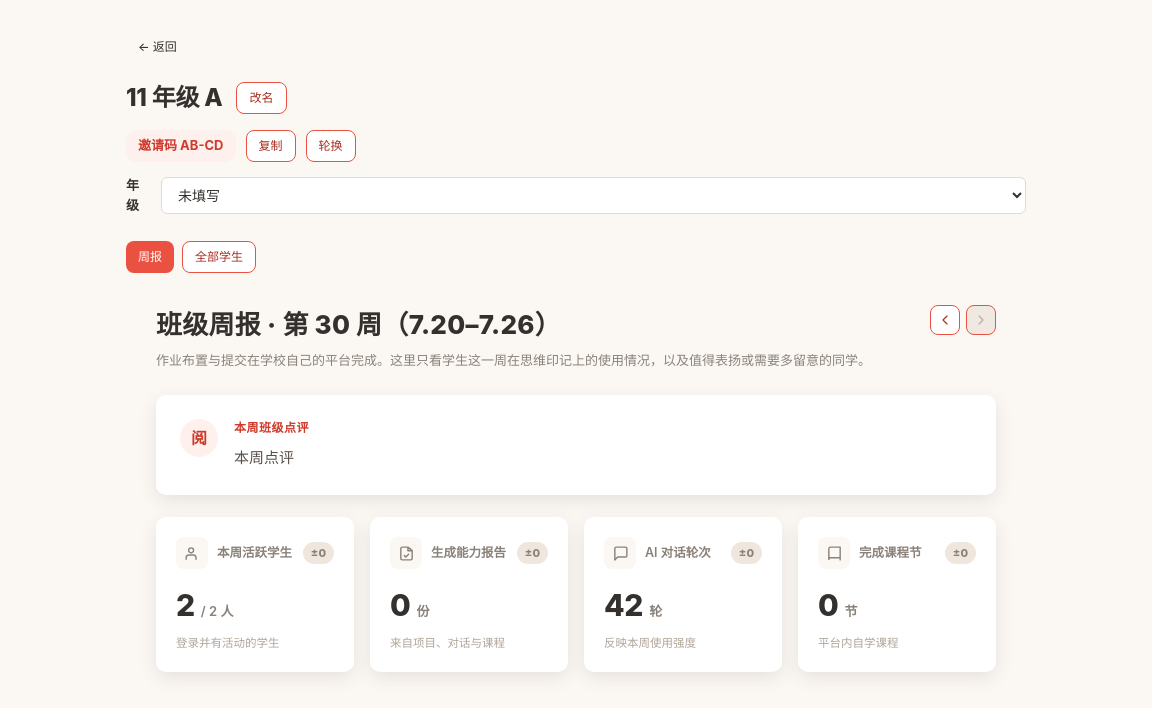
Test: ClassDetailView mutations › renames the class
Click the button "改名" at (262, 98), box [236, 82, 286, 114]
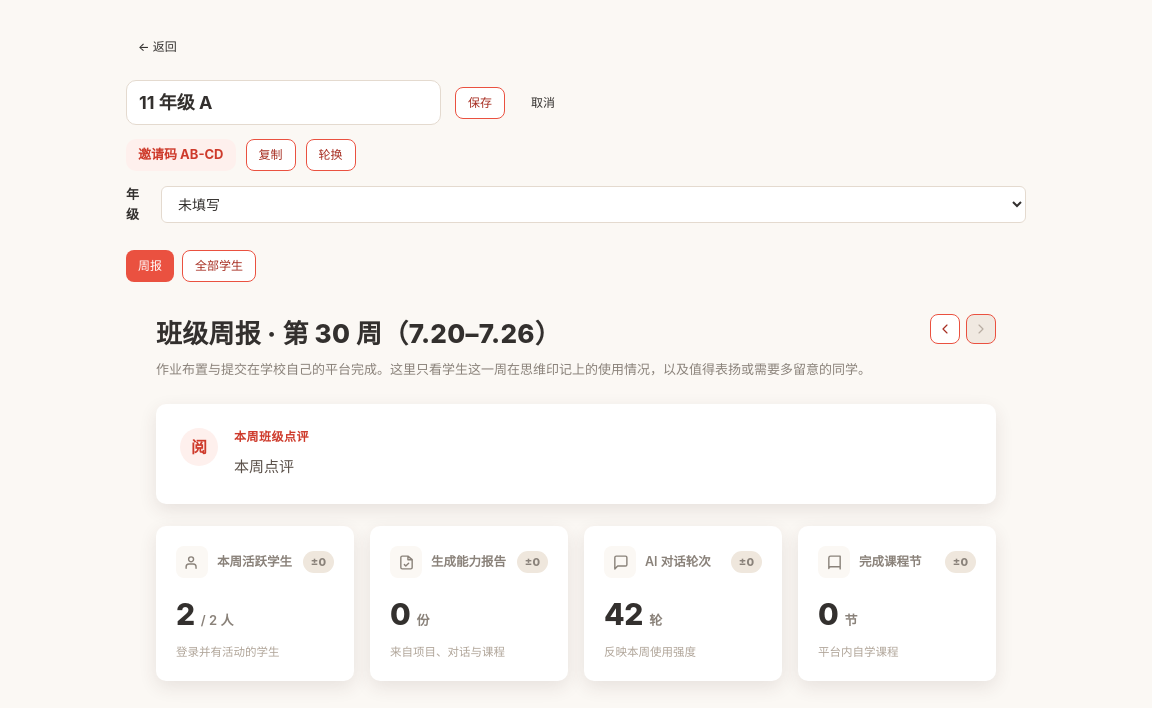
Replace the text in the field showing "11 年级 A" with "新名字" at (284, 102), box [126, 80, 441, 125]
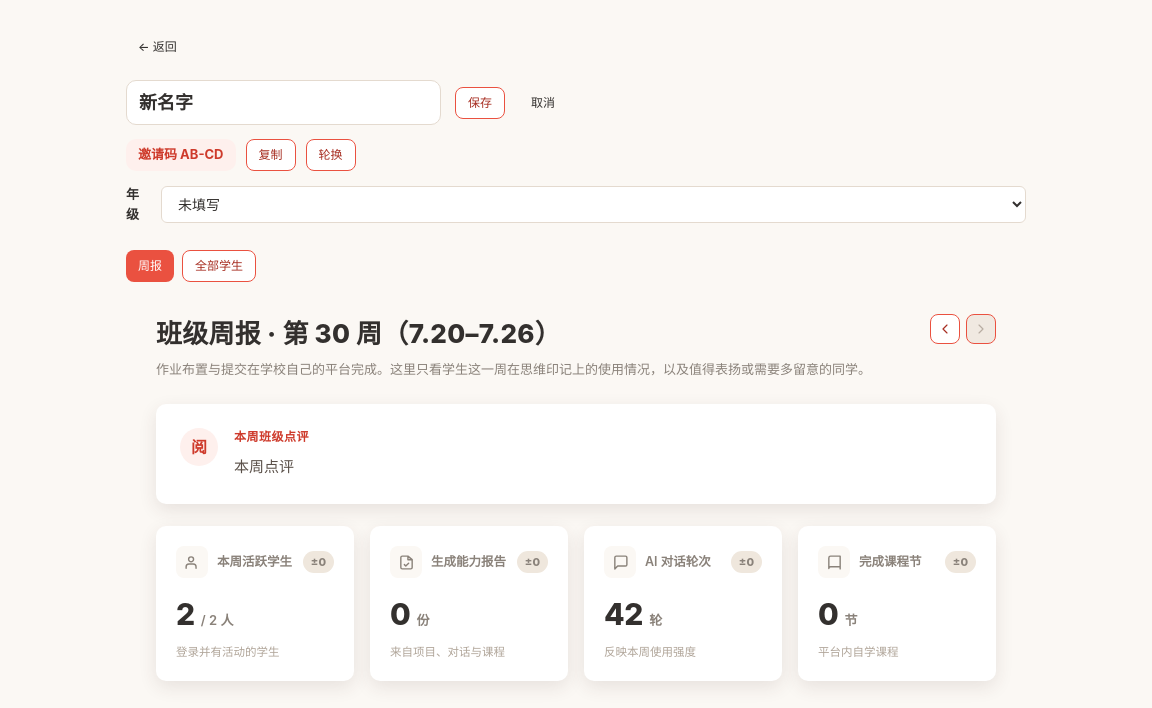
Click the button "保存" at (480, 102), box [455, 86, 505, 118]
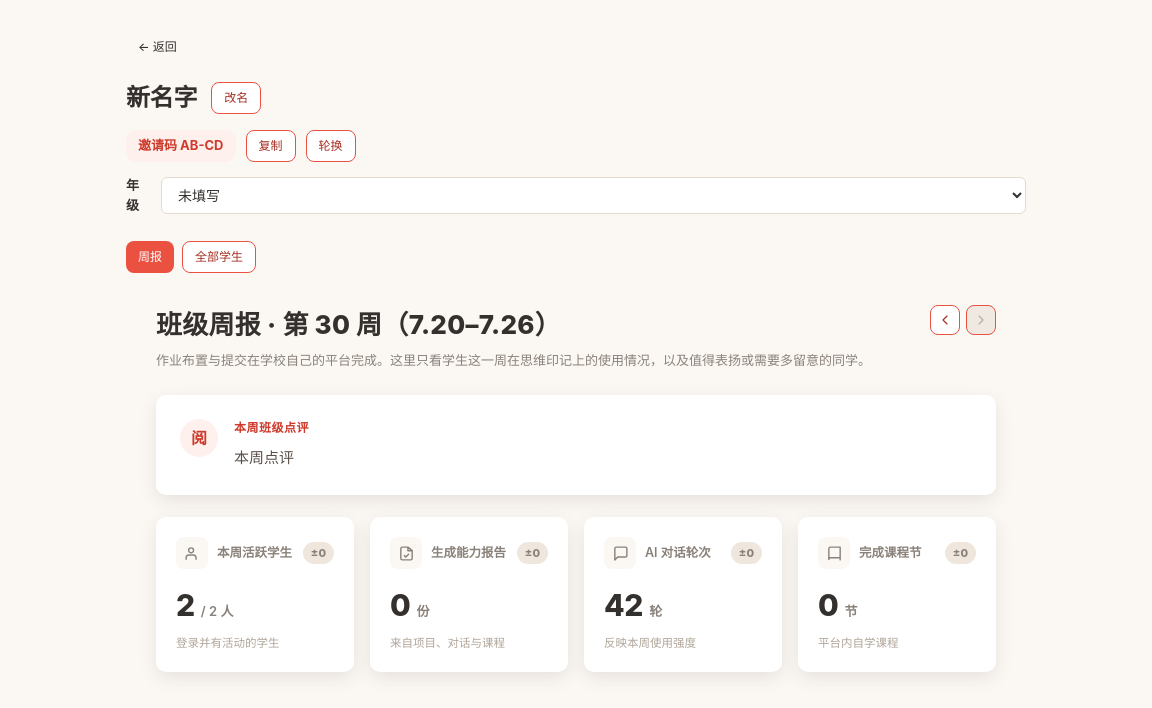
expect the text "新名字" is shown: met, box [126, 80, 197, 116]
